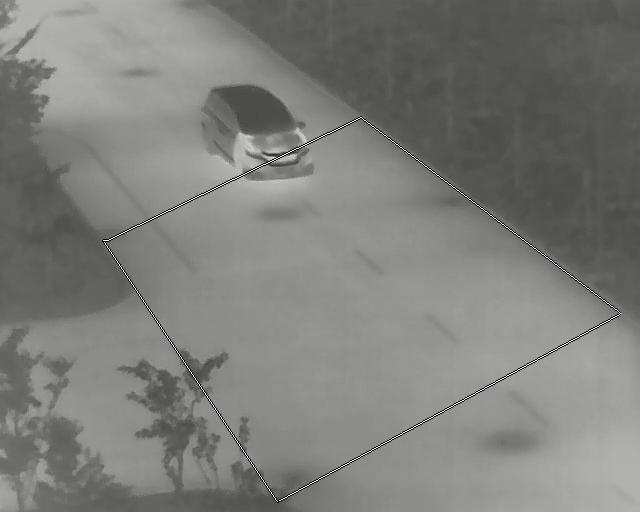vehicle: (199, 84, 315, 180)
